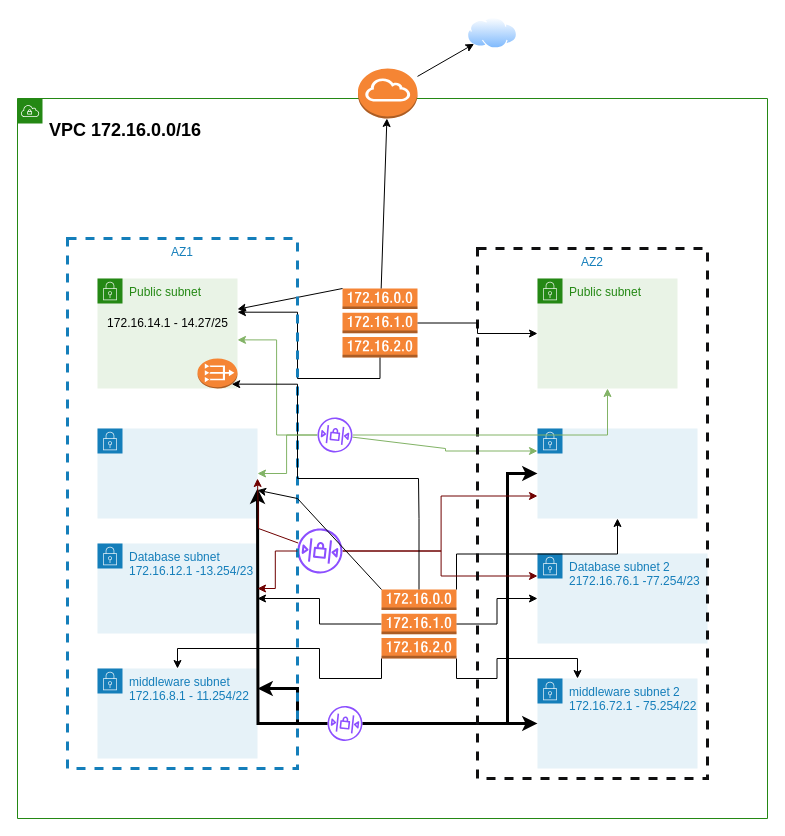
The diagram is 785 pixels wide and 836 high, and some of its shapes have lost their labels. The centre of each missing label's shape, as x and y in pixels:
Application Subnet 172.16.0.1 - .7.254/21: the point at 177,473
Application Subnet 2 172.64.0.1 - .71.254/21: the point at 617,473
IGW: the point at 387,93
NAT: the point at 217,373
